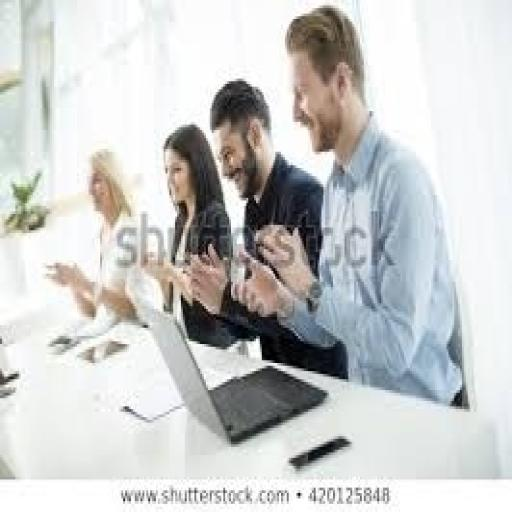clapping: (233, 3, 466, 406), (183, 76, 329, 366), (125, 122, 235, 347), (42, 144, 142, 325)
